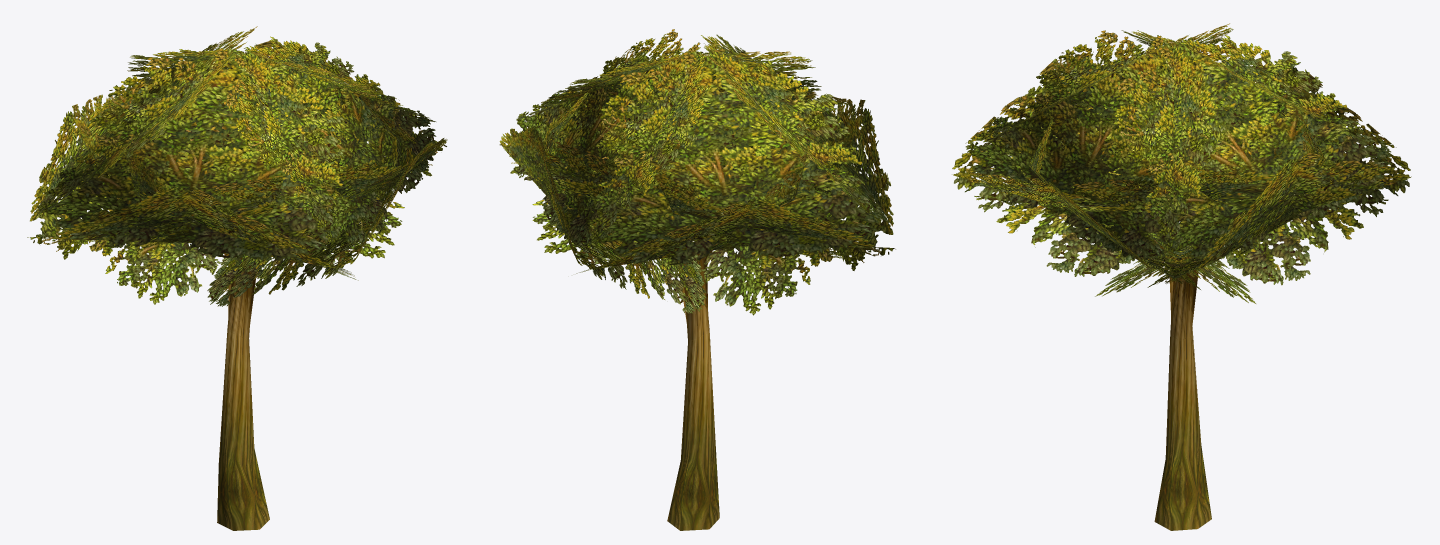
Rendered from canopylesstree01.obj.
3 views of the same model, side by side, from view 1: azimuth 30°, elevation 25°; view 2: azimuth 150°, elevation 25°; view 3: azimuth 270°, elevation 25° (orthographic).
Visible parts, largest first — view 1: Geoset0, Geoset1; view 2: Geoset0, Geoset1; view 3: Geoset0, Geoset1.
Part boxes in pixels (x1,y1,x2,y2): Geoset0: (27, 26, 447, 306); Geoset1: (182, 121, 297, 530); Geoset0: (499, 29, 895, 315); Geoset1: (653, 151, 748, 530); Geoset0: (952, 23, 1411, 303); Geoset1: (1124, 109, 1228, 530).
Bounding box in the file's own units: 79 × 82.55 × 76.46.
2 materials, 2 textured.
